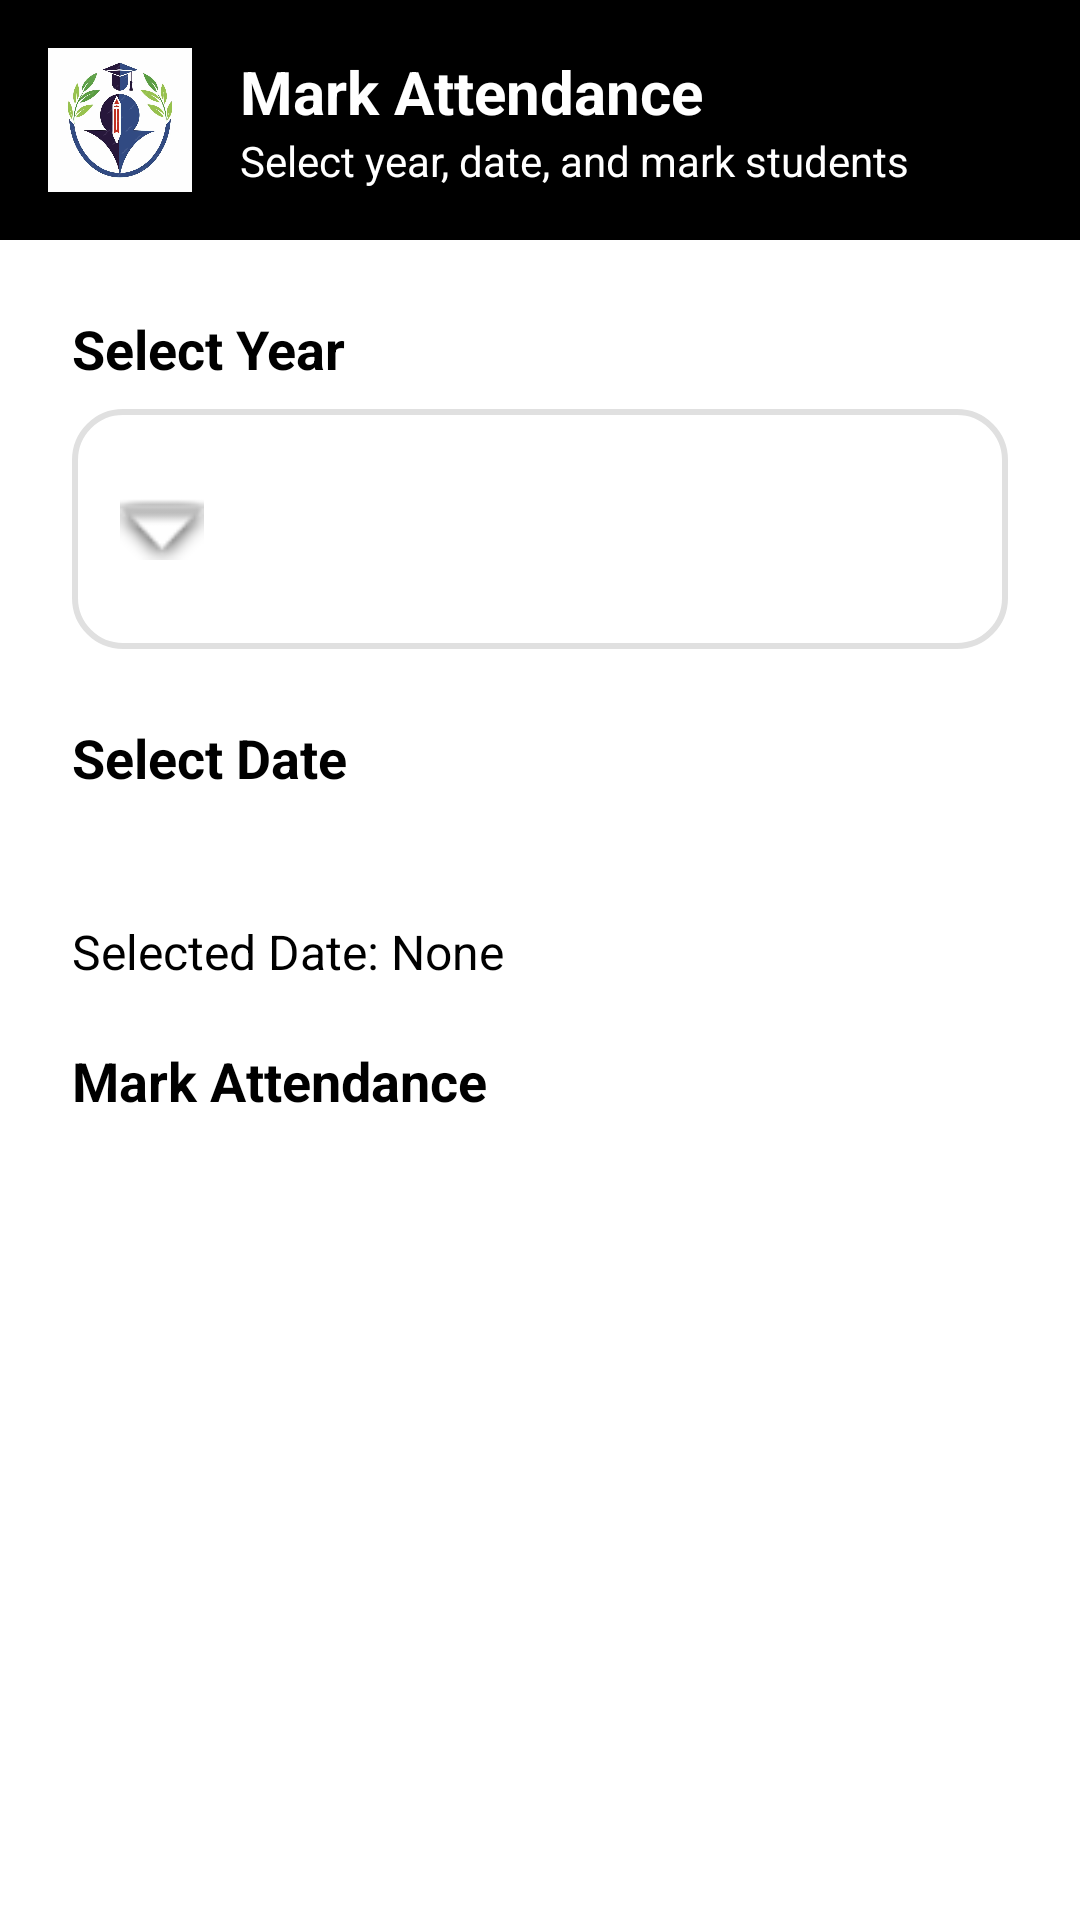

Icon bounding boxes for this 1080w x 1920h phone screenshot, format region(x1, y1, x2, y2):
arrow down float: region(120, 501, 204, 558)
